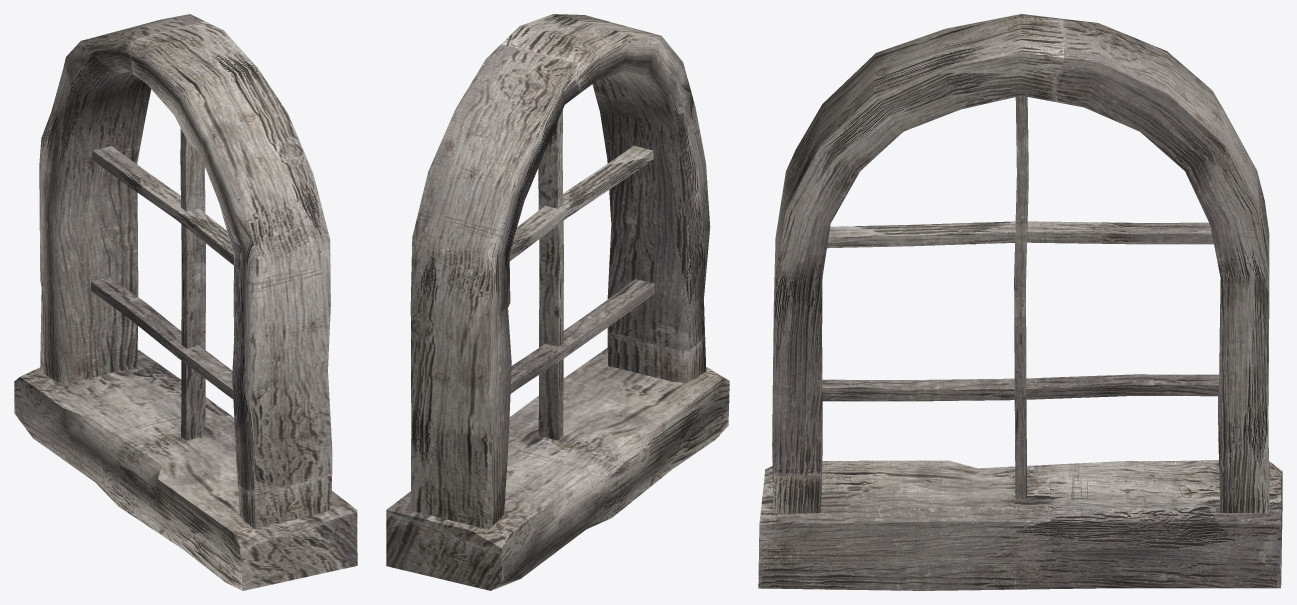
File: Window.FBX
3 renders of one model, left to right at view 1: azimuth 30°, elevation 25°; view 2: azimuth 150°, elevation 25°; view 3: azimuth 270°, elevation 25°, orthographic. The views are drawn at different scales.
Visible parts, largest first — view 1: Windows; view 2: Windows; view 3: Windows.
Boxes of the visible parts, box(x1,y1,x2,y2) form: Windows: box(14, 14, 357, 590); Windows: box(386, 14, 729, 590); Windows: box(758, 14, 1282, 590).
Bounding box in the file's own units: 28.42 × 95.53 × 106.
